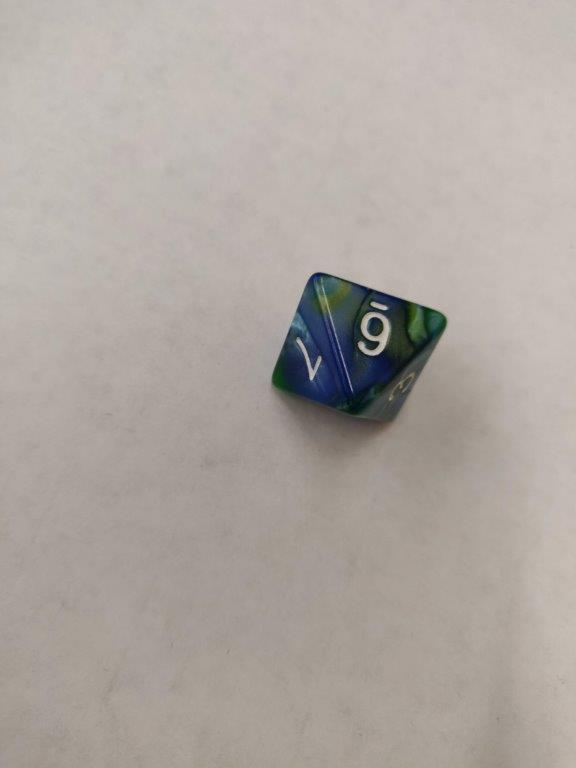d8-6: (266, 270, 444, 438)
